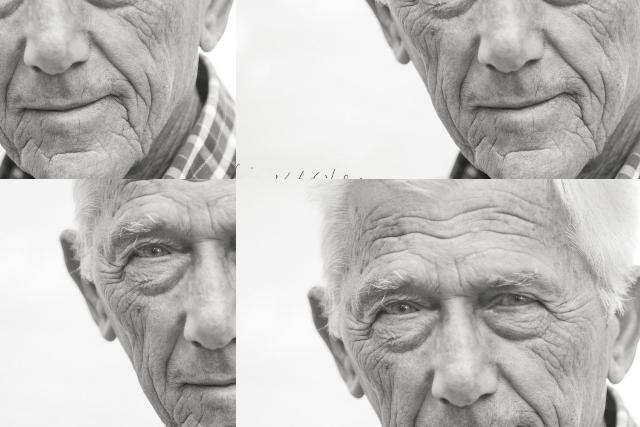crows_feet: (332, 86, 364, 128), (343, 311, 372, 351), (540, 299, 576, 323), (39, 185, 50, 195)
forehead: (344, 0, 416, 42), (432, 0, 488, 42), (491, 204, 545, 246), (422, 206, 480, 245), (362, 214, 414, 255), (492, 7, 522, 54)
frown_line: (448, 260, 470, 290), (1, 179, 11, 182), (14, 179, 20, 183)
gummy_smile: (500, 368, 534, 406), (409, 397, 426, 427), (22, 204, 34, 218)
masseter: (375, 370, 404, 427), (536, 344, 570, 388), (551, 402, 565, 427), (42, 198, 52, 212), (36, 218, 44, 235)
